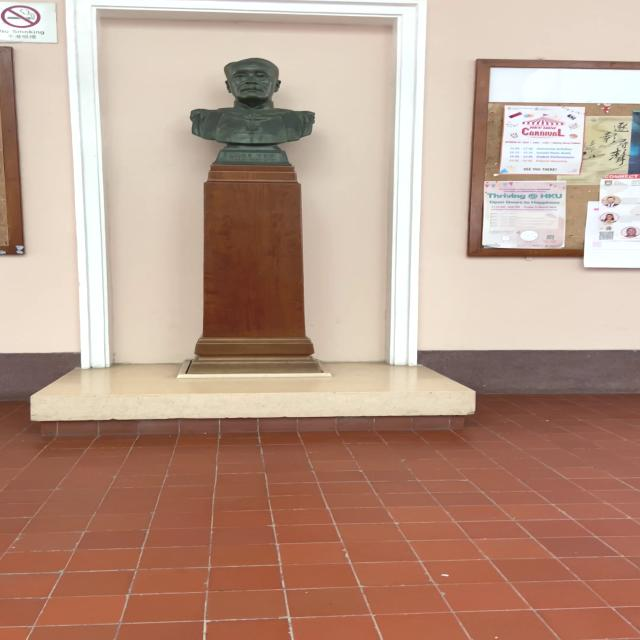statues: (184, 56, 324, 174)
